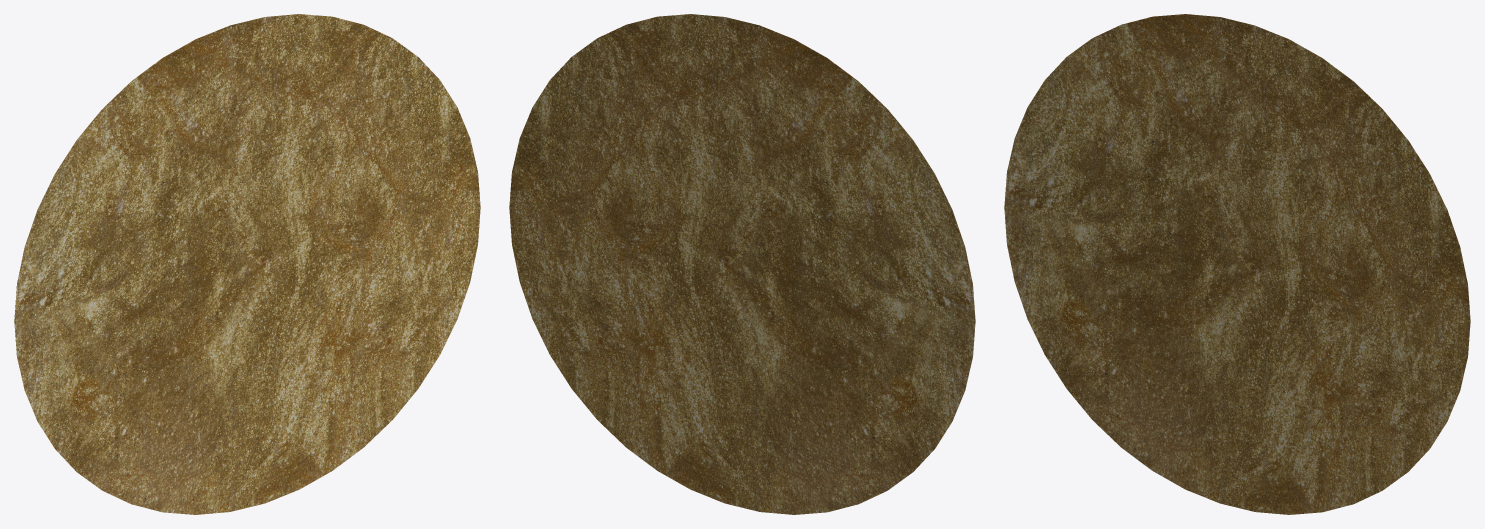
The model's file is circulo.glb.
3 renders of one model, left to right at view 1: azimuth 30°, elevation 25°; view 2: azimuth 150°, elevation 25°; view 3: azimuth 330°, elevation 25°, orthographic.
Parts seen in each view (by area): view 1: Circle; view 2: Circle; view 3: Circle.
Part boxes in pixels (left/top/right/bottom): Circle: left=14, top=14, right=480, bottom=514; Circle: left=509, top=14, right=975, bottom=514; Circle: left=1004, top=14, right=1470, bottom=514.
Size of the model in its own units: 2 by 1.99 by 0.001.
Materials: 1 (1 with a texture image).
